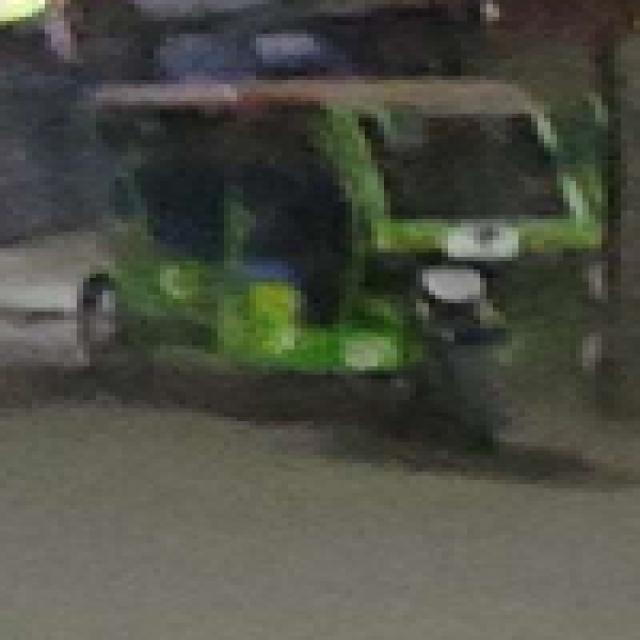rickshaw: (58, 71, 595, 488)
